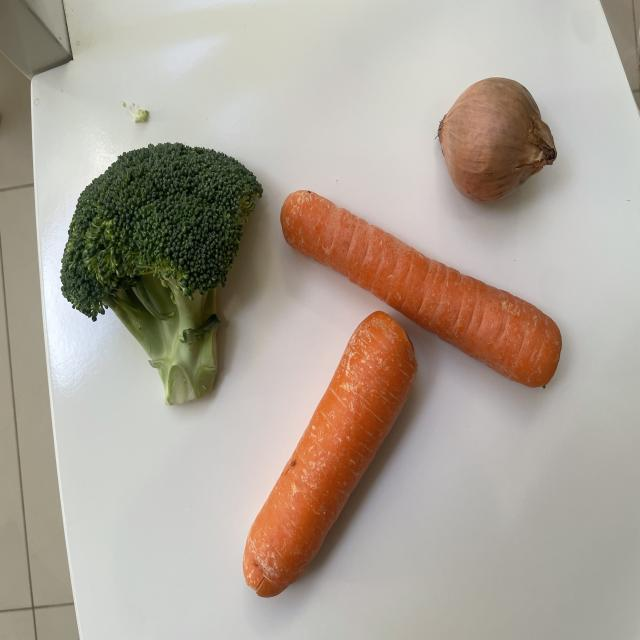Broccoli: (58, 138, 266, 410)
Carrot: (280, 186, 564, 392), (241, 308, 419, 600)
Onion: (437, 75, 559, 203)
